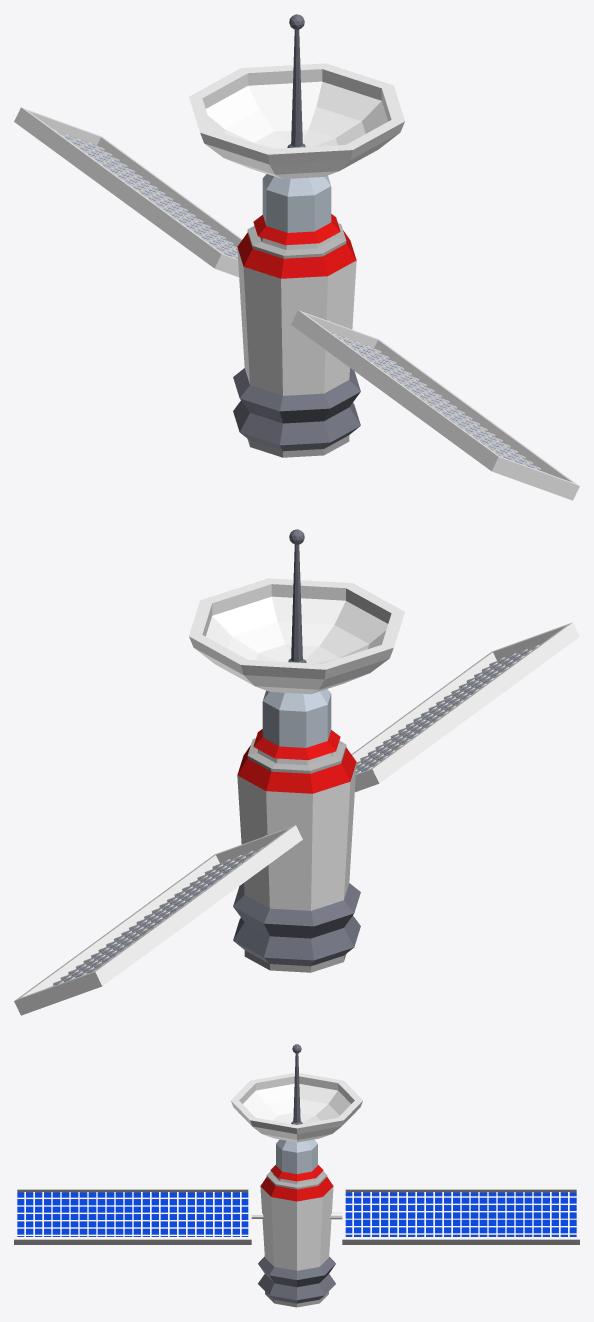
File: Satellite4.glb
3 renders of one model, top to bottom at view 1: azimuth 30°, elevation 25°; view 2: azimuth 150°, elevation 25°; view 3: azimuth 270°, elevation 25°, orthographic. The views are drawn at different scales.
Visible parts, largest first — view 1: Satellite4-main, Satellite4-head, Satellite4-PanelRight, Satellite4-PanelLeft; view 2: Satellite4-main, Satellite4-head, Satellite4-PanelLeft, Satellite4-PanelRight; view 3: Satellite4-PanelLeft, Satellite4-PanelRight, Satellite4-main, Satellite4-head.
Boxes of the visible parts, <box> form: Satellite4-main: <box>233,174,360,457</box>; Satellite4-head: <box>189,14,404,179</box>; Satellite4-PanelRight: <box>291,310,579,500</box>; Satellite4-PanelLeft: <box>14,107,242,277</box>; Satellite4-main: <box>233,689,360,972</box>; Satellite4-head: <box>189,529,404,694</box>; Satellite4-PanelLeft: <box>14,825,302,1015</box>; Satellite4-PanelRight: <box>351,622,579,792</box>; Satellite4-PanelLeft: <box>330,1187,579,1244</box>; Satellite4-PanelRight: <box>14,1187,263,1244</box>; Satellite4-main: <box>258,1139,335,1307</box>; Satellite4-head: <box>231,1044,362,1142</box>.
Bounding box in the file's own units: 4.13 × 8.57 × 17.62.
